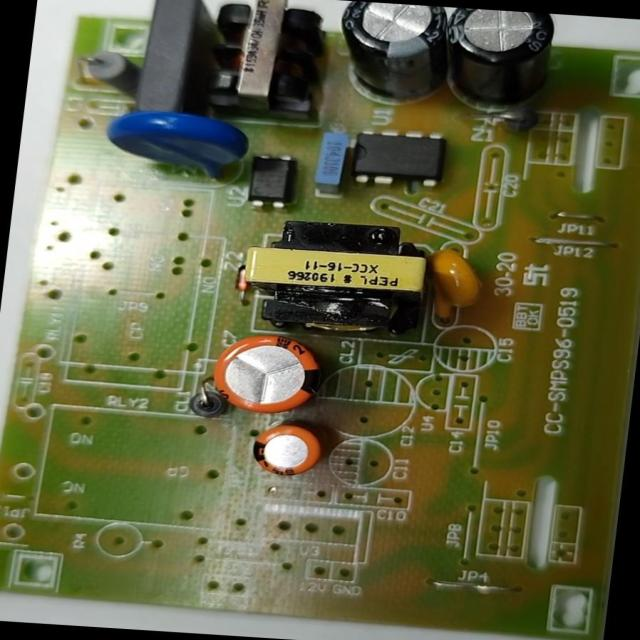Cap1: (202, 327, 330, 421)
Cap2: (243, 416, 334, 484)
Cap3: (326, 0, 462, 110)
Cap4: (432, 8, 564, 116)
MOSFET: (340, 122, 458, 194)
Mov: (95, 101, 262, 186)
Resistor: (74, 44, 150, 99)
Transformer: (230, 208, 447, 350), (195, 0, 339, 133)
